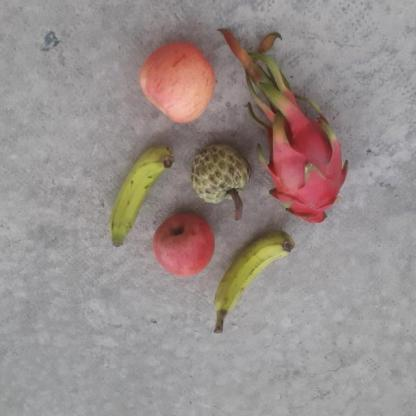annona: (188, 140, 251, 202)
apple: (134, 44, 216, 122), (149, 207, 216, 278)
banana: (207, 227, 305, 325), (104, 136, 174, 253)
pitaya: (261, 117, 346, 223)
